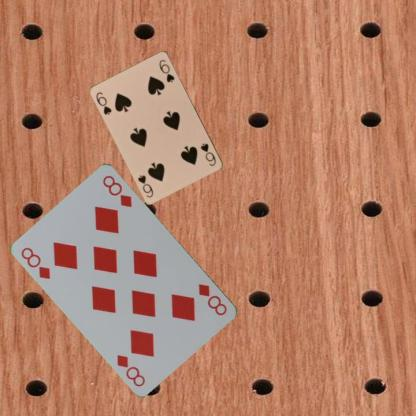6s: (198, 140, 217, 168), (94, 90, 113, 116)
8d: (18, 244, 52, 281), (196, 281, 229, 317)
